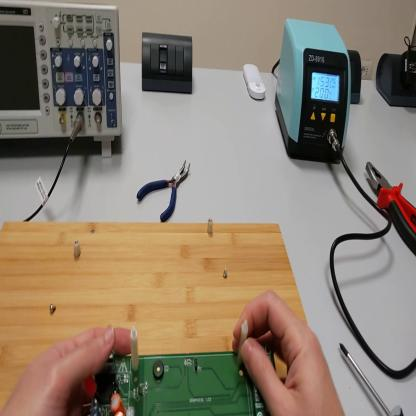hand: (234, 289, 343, 415), (6, 324, 133, 416)
low voltage board: (87, 317, 277, 416)
oscilloscope: (3, 3, 123, 161)
pliers: (366, 162, 416, 257), (137, 162, 193, 221)
screwdriver-: (340, 342, 405, 416)
socket: (376, 55, 415, 109), (348, 51, 362, 103)
welder station: (276, 20, 353, 163)
working area: (1, 222, 307, 414)
